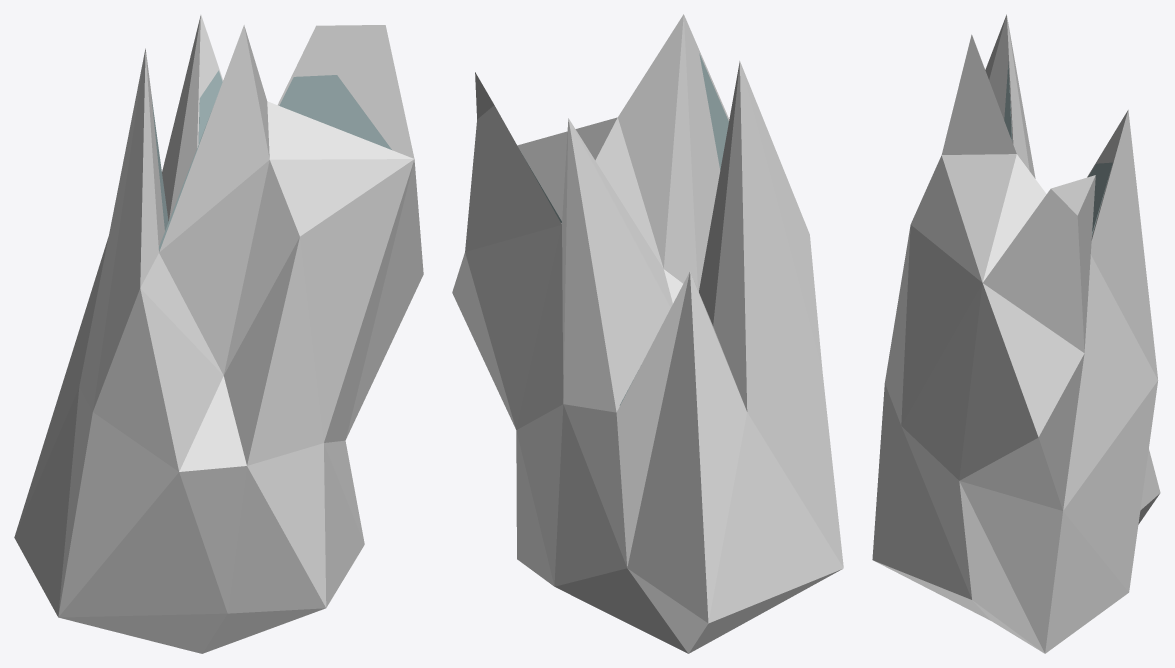
The model's file is resource__surrounding__rock-5.fbx.
The picture shows the model from 3 angles, left to right: view 1: azimuth 30°, elevation 25°; view 2: azimuth 150°, elevation 25°; view 3: azimuth 270°, elevation 25°; orthographic projection. The views are drawn at different scales.
Parts seen in each view (by area): view 1: Map_Surrounding_Rock_5; view 2: Map_Surrounding_Rock_5; view 3: Map_Surrounding_Rock_5.
Boxes of the visible parts, box(x1,y1,x2,y2) form: Map_Surrounding_Rock_5: box(14, 15, 423, 653); Map_Surrounding_Rock_5: box(452, 14, 843, 653); Map_Surrounding_Rock_5: box(872, 14, 1160, 653).
Size of the model in its own units: 1253 by 1926 by 851.
